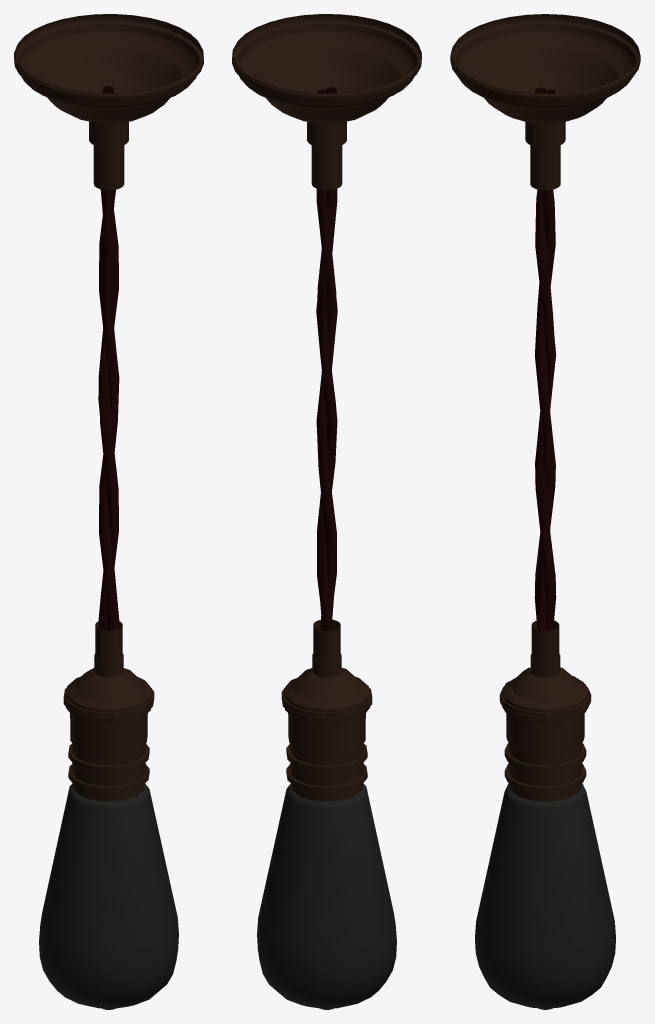
The model's file is Light_.FBX.
The picture shows the model from 3 angles, left to right: view 1: azimuth 30°, elevation 25°; view 2: azimuth 150°, elevation 25°; view 3: azimuth 270°, elevation 25°; orthographic projection.
Parts seen in each view (by area): view 1: Light002, Line1789529585, Line1789529583, Line1789529582; view 2: Light002, Line1789529585, Line1789529583, Line1789529582; view 3: Light002, Line1789529585, Line1789529583, Line1789529582.
Boxes of the visible parts, x1,y1,x2,y2 form: Light002: (39,784,178,1009); Line1789529585: (14,14,203,190); Line1789529583: (63,621,154,801); Line1789529582: (98,86,119,630); Light002: (257,784,396,1009); Line1789529585: (232,14,421,190); Line1789529583: (281,619,372,801); Line1789529582: (316,87,337,630); Light002: (475,783,615,1009); Line1789529585: (450,14,640,190); Line1789529583: (499,620,591,801); Line1789529582: (534,87,556,630).
Bounding box in the file's own units: 103 × 571 × 103.
